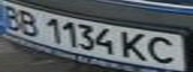1: (39, 15, 63, 43), (57, 19, 78, 47)
3: (75, 21, 96, 52)
4: (93, 25, 118, 55)
B: (15, 7, 42, 37), (0, 2, 27, 32)
C: (145, 34, 187, 65)
K: (118, 29, 151, 62)
